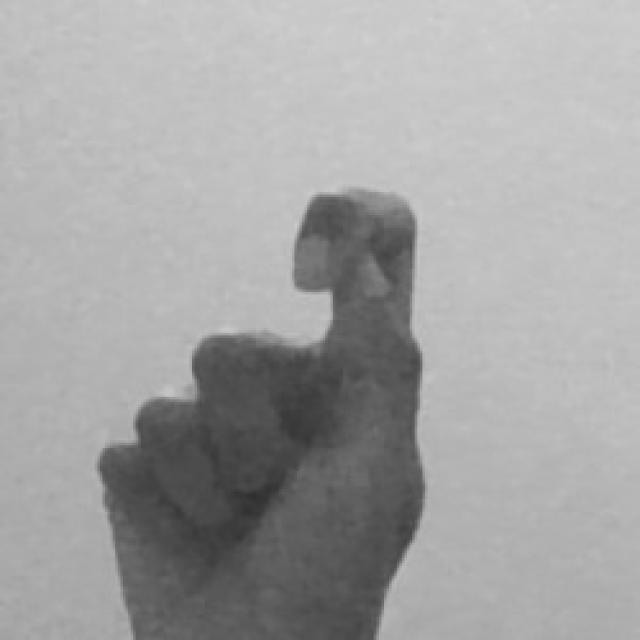T: (90, 179, 432, 640)
